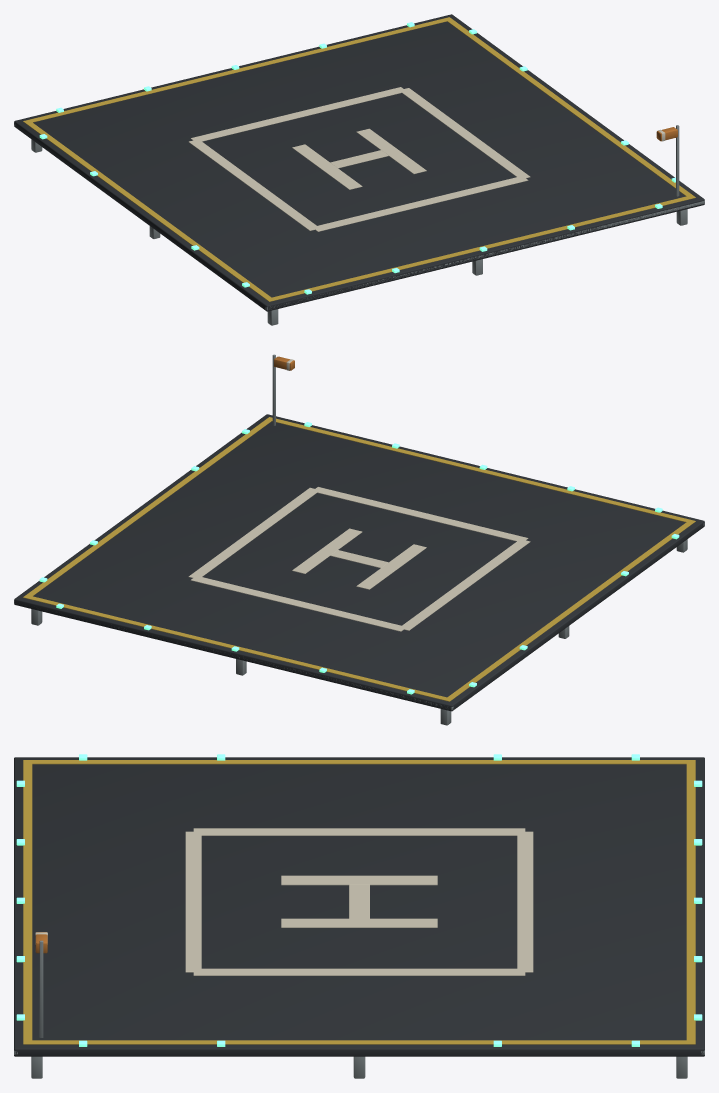
Rendered from sc-ext-helipad.glb.
3 views of the same model, one above another, from view 1: azimuth 30°, elevation 25°; view 2: azimuth 150°, elevation 25°; view 3: azimuth 270°, elevation 25° (orthographic). The views are drawn at different scales.
Parts seen in each view (by area): view 1: sc-ext-helipad; view 2: sc-ext-helipad; view 3: sc-ext-helipad.
Boxes of the visible parts, x1=… form: sc-ext-helipad: x1=14, y1=14, x2=704, y2=325; sc-ext-helipad: x1=14, y1=354, x2=704, y2=725; sc-ext-helipad: x1=14, y1=754, x2=704, y2=1078.
Size of the model in its own units: 15 by 3.2 by 15.
